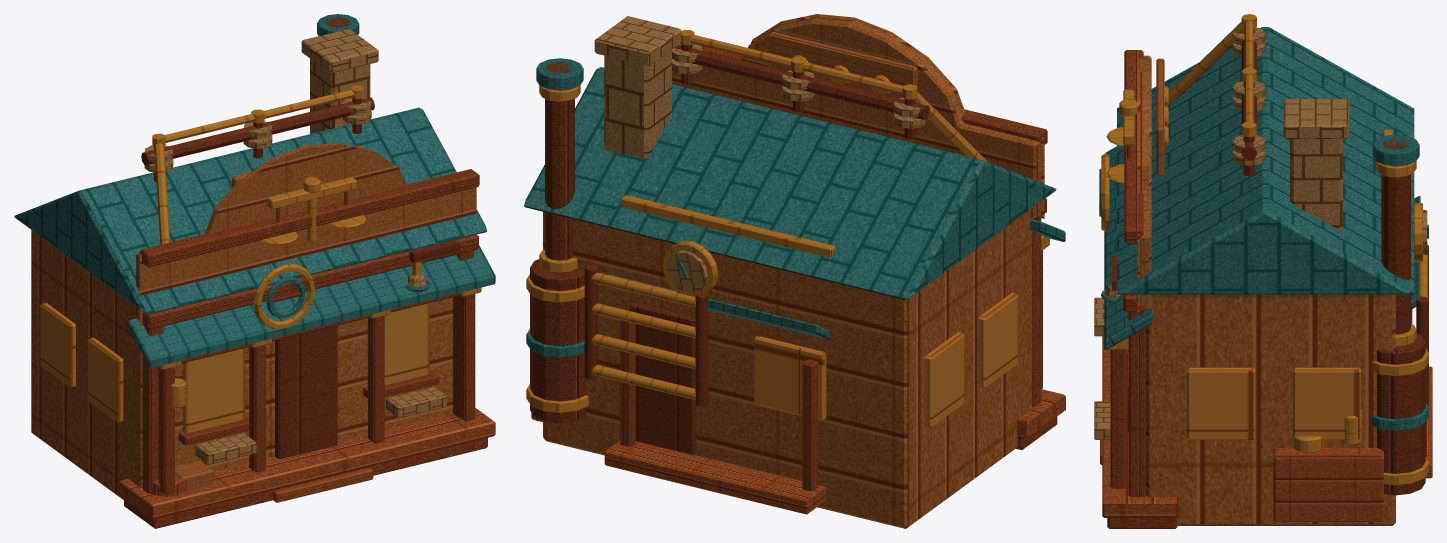
Rendered from assay-office.e3.glb.
3 views of the same model, side by side, from view 1: azimuth 30°, elevation 25°; view 2: azimuth 150°, elevation 25°; view 3: azimuth 270°, elevation 25° (orthographic). The views are drawn at different scales.
Parts seen in each view (by area): view 1: AssayOfficeE3; view 2: AssayOfficeE3; view 3: AssayOfficeE3.
Part boxes in pixels (box(x1,y1,x2,y2)): AssayOfficeE3: box(14, 14, 495, 528); AssayOfficeE3: box(524, 14, 1065, 528); AssayOfficeE3: box(1094, 14, 1432, 528).
Bounding box in the file's own units: 4.42 × 4.2 × 3.32.
1 material, 1 textured.
